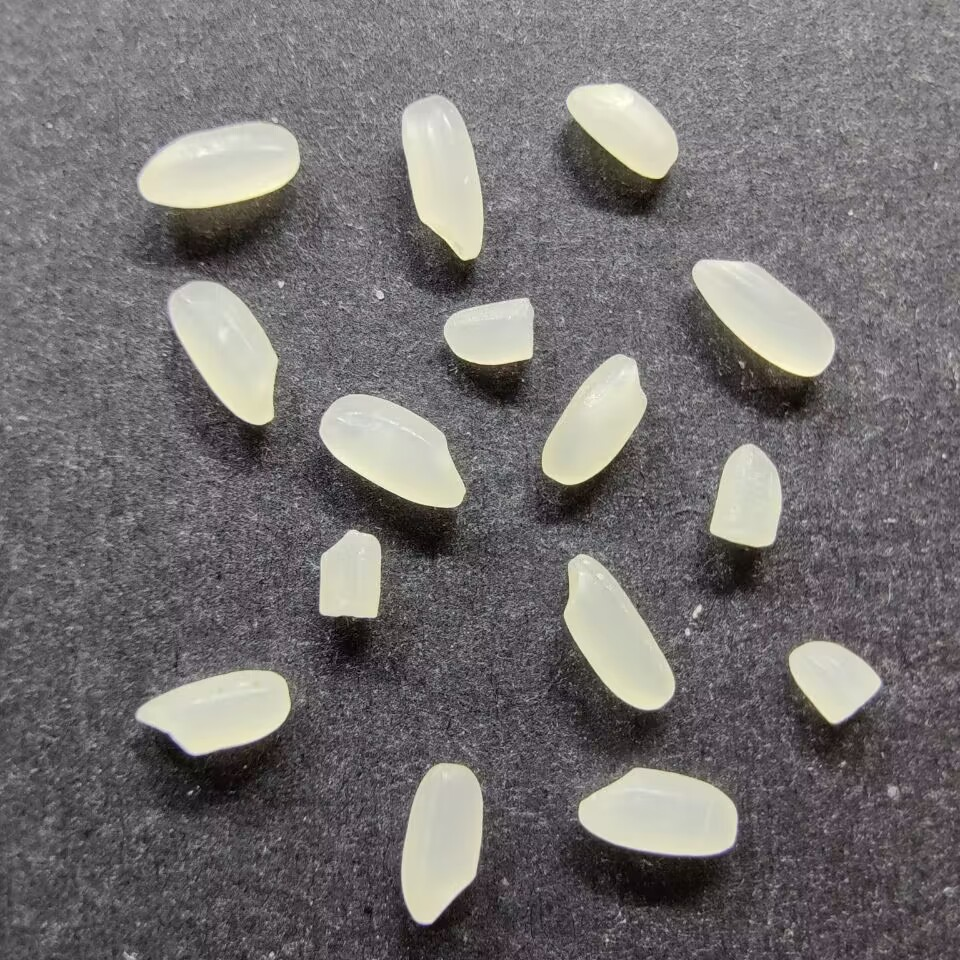broken: (788, 640, 883, 727), (709, 439, 782, 552), (441, 296, 538, 370), (315, 527, 383, 620)
rice: (558, 551, 679, 711), (688, 256, 838, 378), (316, 392, 467, 510), (164, 277, 282, 428), (574, 763, 741, 859), (538, 350, 649, 488), (397, 92, 487, 262), (134, 119, 301, 210), (396, 761, 487, 927), (132, 667, 291, 760), (563, 81, 682, 181)
